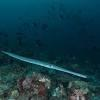Fistularia commersonii: (0, 48, 86, 79)
